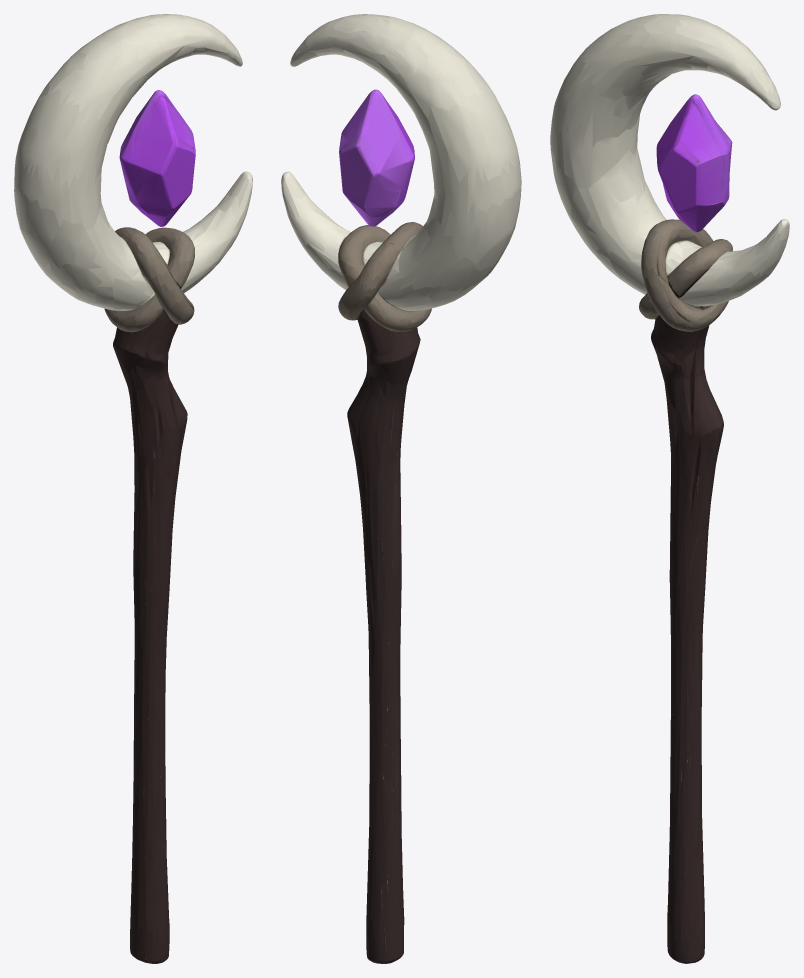
Rendered from staff.glb.
3 views of the same model, side by side, from view 1: azimuth 30°, elevation 25°; view 2: azimuth 150°, elevation 25°; view 3: azimuth 330°, elevation 25° (orthographic).
Bounding box in the file's own units: 0.4899 × 1.9 × 0.2125.
1 material, 1 textured.
